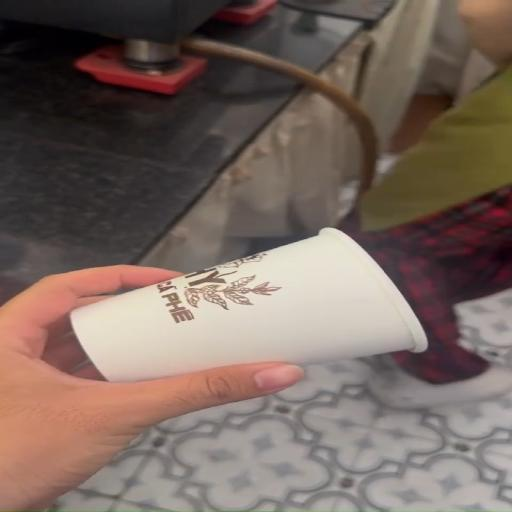ly_giay: (73, 228, 426, 381), (218, 252, 266, 268)
